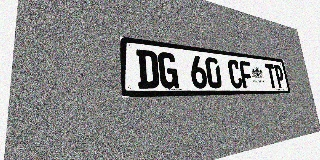0: (205, 57, 222, 88)
6: (189, 55, 208, 88)
C: (227, 59, 243, 88)
D: (136, 49, 159, 89)
F: (239, 61, 254, 88)
G: (157, 52, 179, 88)
P: (273, 64, 286, 88)
T: (265, 63, 278, 88)
